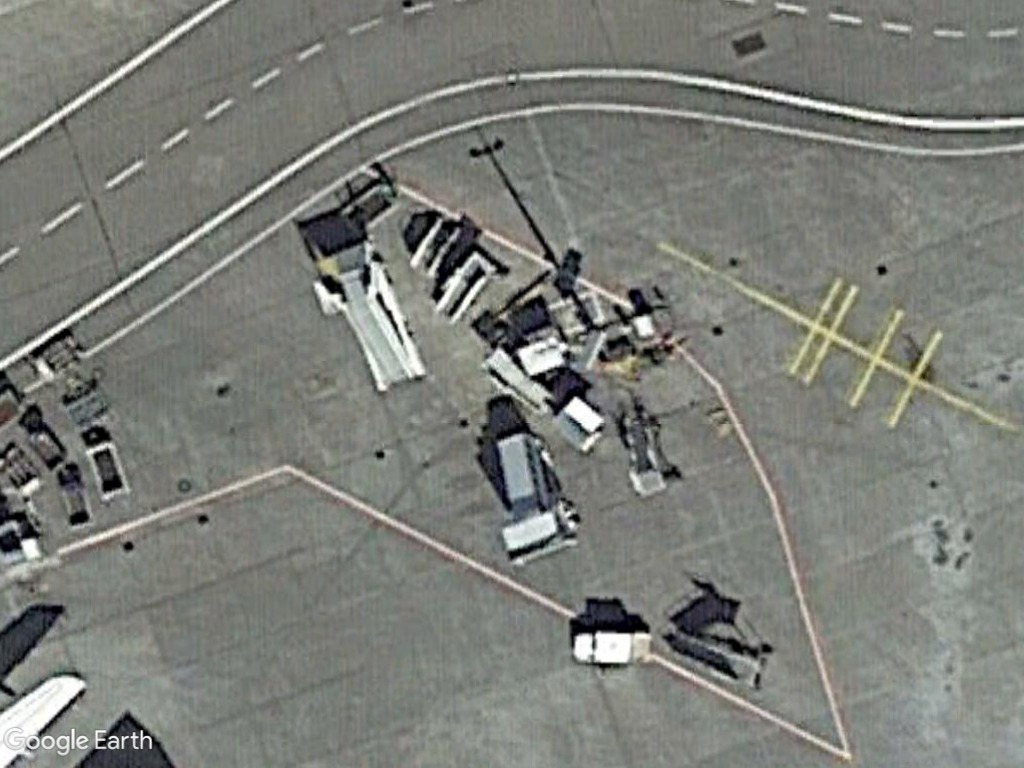stairtruck: (311, 263, 433, 394), (477, 345, 559, 422), (432, 247, 500, 331)
